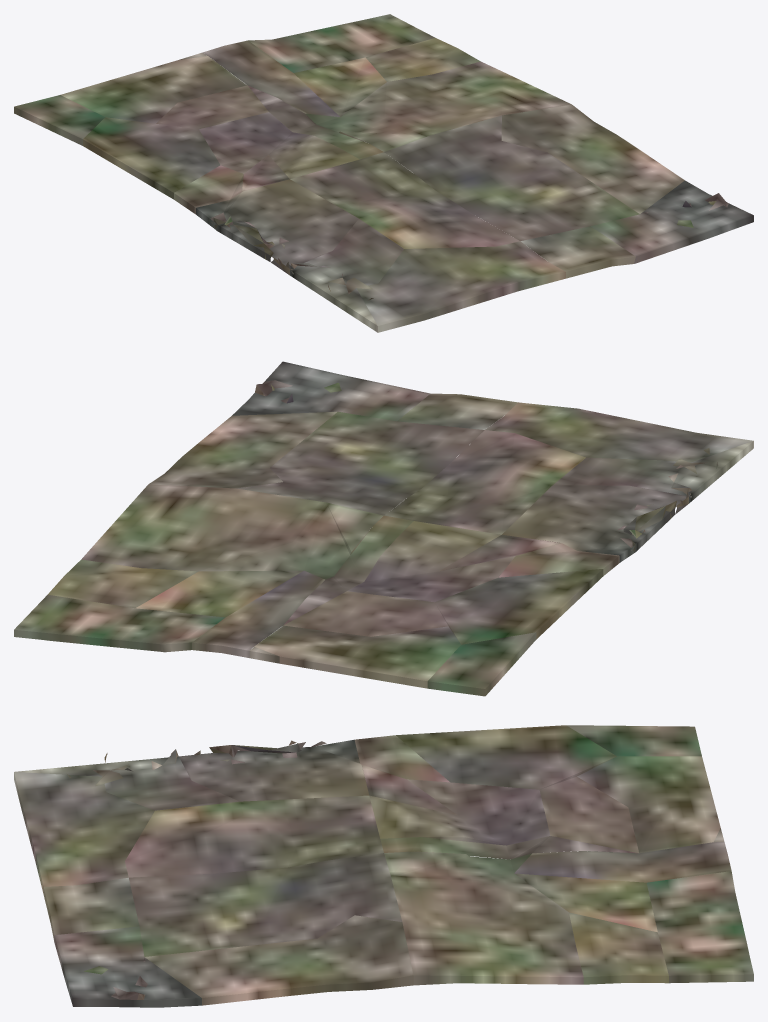
3 views of the same model, one above another, from view 1: azimuth 30°, elevation 25°; view 2: azimuth 150°, elevation 25°; view 3: azimuth 270°, elevation 25° (orthographic). The views are drawn at different scales.
Parts seen in each view (by area): view 1: Mesh_0; view 2: Mesh_0; view 3: Mesh_0.
Boxes of the visible parts, left/top/right/bottom form: Mesh_0: left=14, top=14, right=753, bottom=332; Mesh_0: left=14, top=361, right=753, bottom=696; Mesh_0: left=14, top=725, right=753, bottom=1007.
Bounding box in the file's own units: 1064 × 85.08 × 1317.
1 material, 1 textured.
